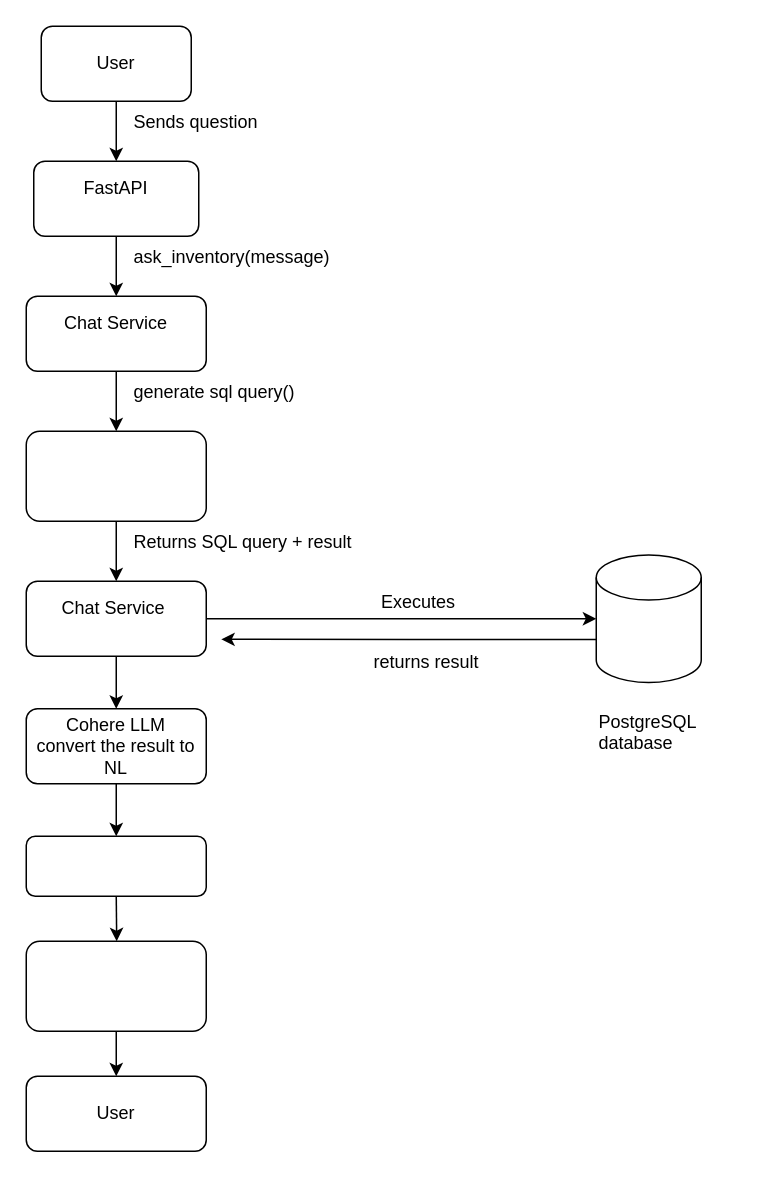
Image size: 758x1178. Some labels were removed from this diagram. Here are the shapes that lost their labels. From the top down, the box of each, then its label:
(25, 430, 206, 521): Cohere LLM API generate sql
(25, 835, 206, 896): Chat service build the answer (query , NL)
(25, 940, 206, 1031): FastAP Returns JSON
